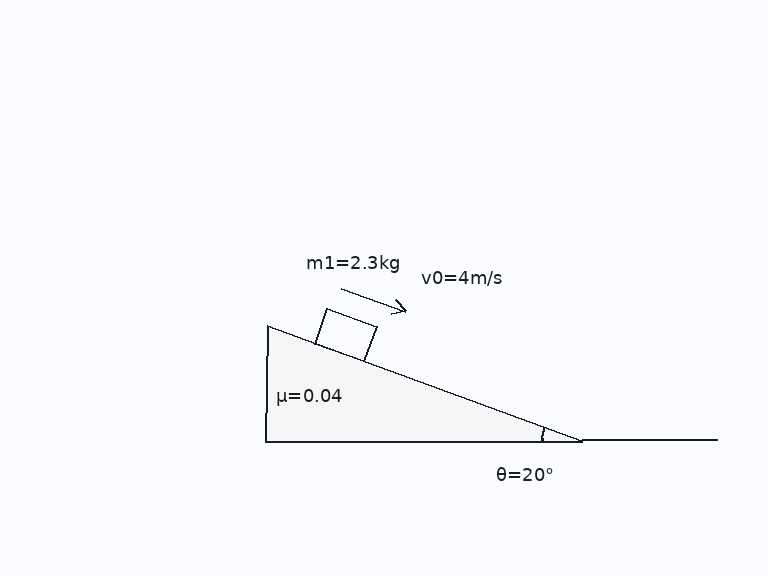block: (313, 307, 378, 363)
ramp: (264, 324, 584, 443)
